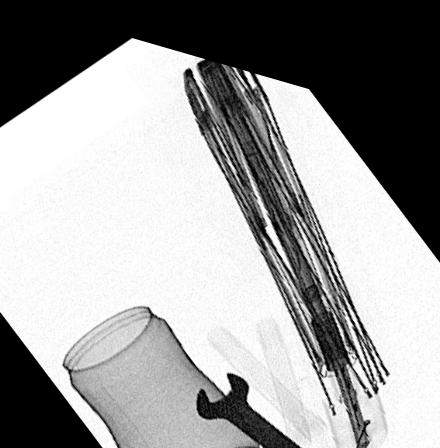Wrench: (192, 356, 337, 448)
